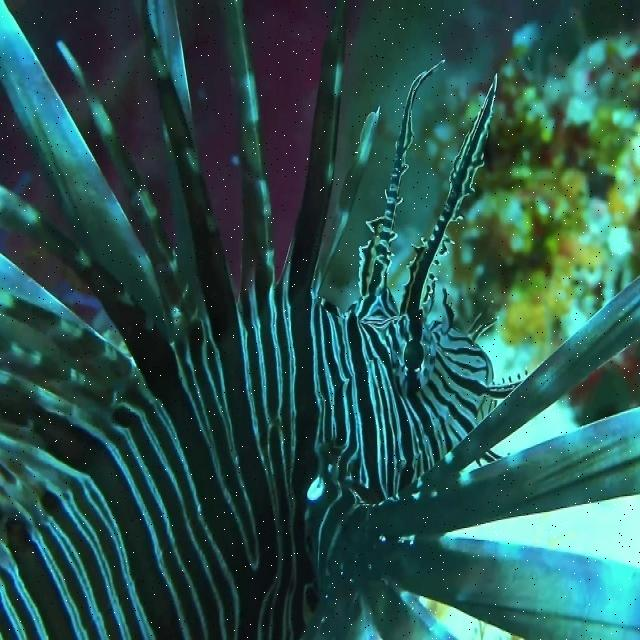fish: (0, 1, 639, 639)
